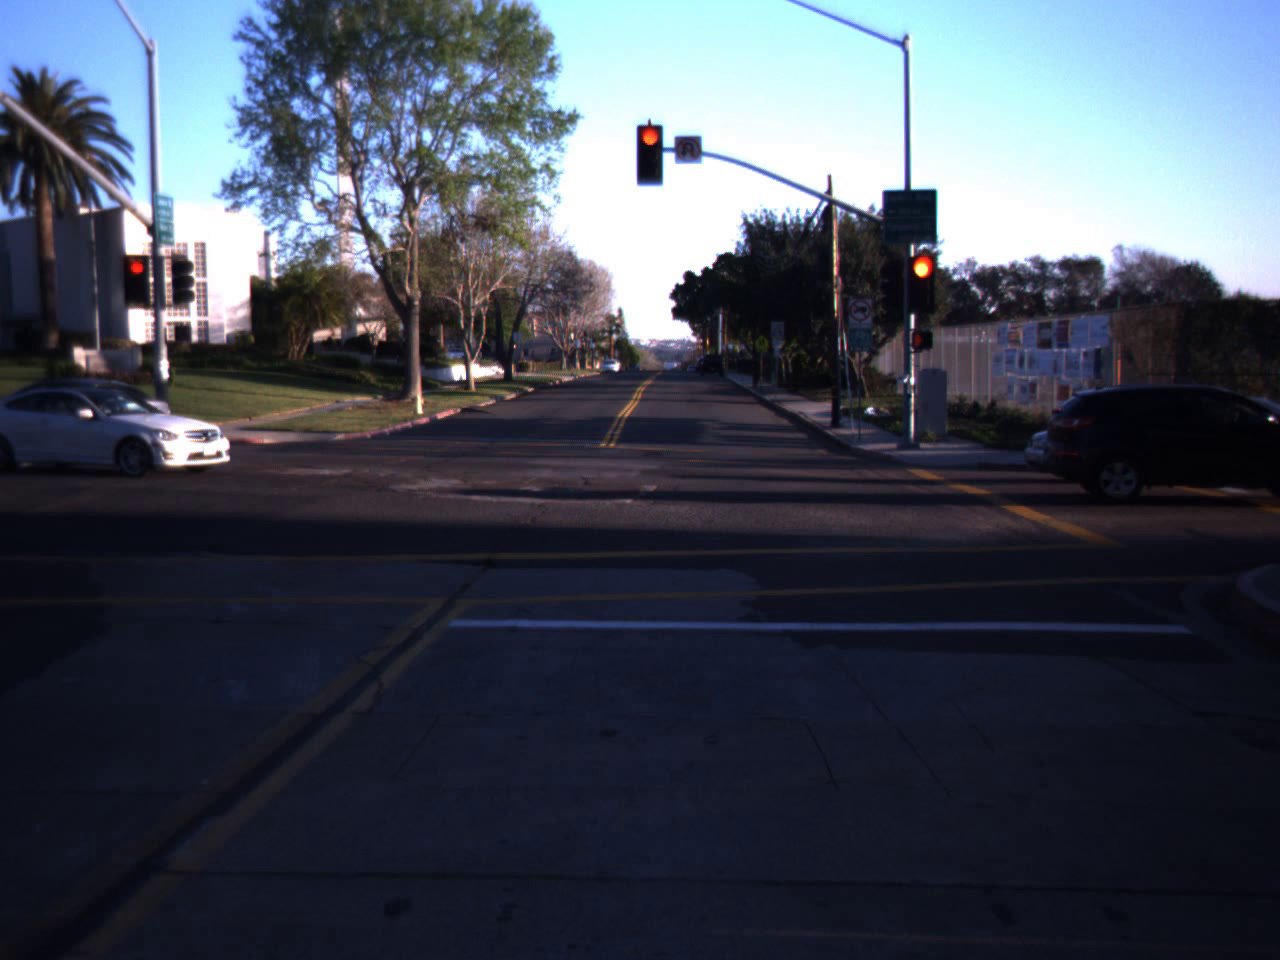stop: (904, 251, 946, 318), (630, 122, 669, 185), (114, 256, 150, 310)
